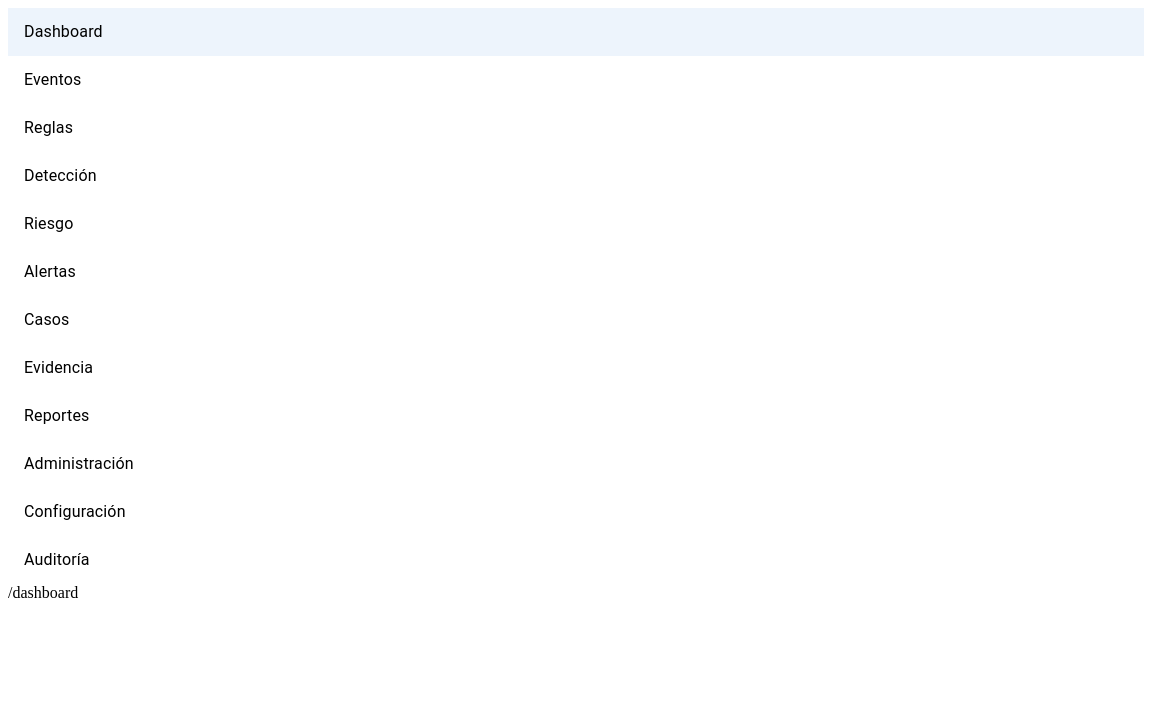
Test: AppNavigation › navigates using the route contract
This screenshot has width=1152, height=720.
Expected: the text with test id "current-location" reads "/dashboard", [8, 584, 78, 601]
Click the button "Alertas": (50, 272) [24, 262, 76, 281]
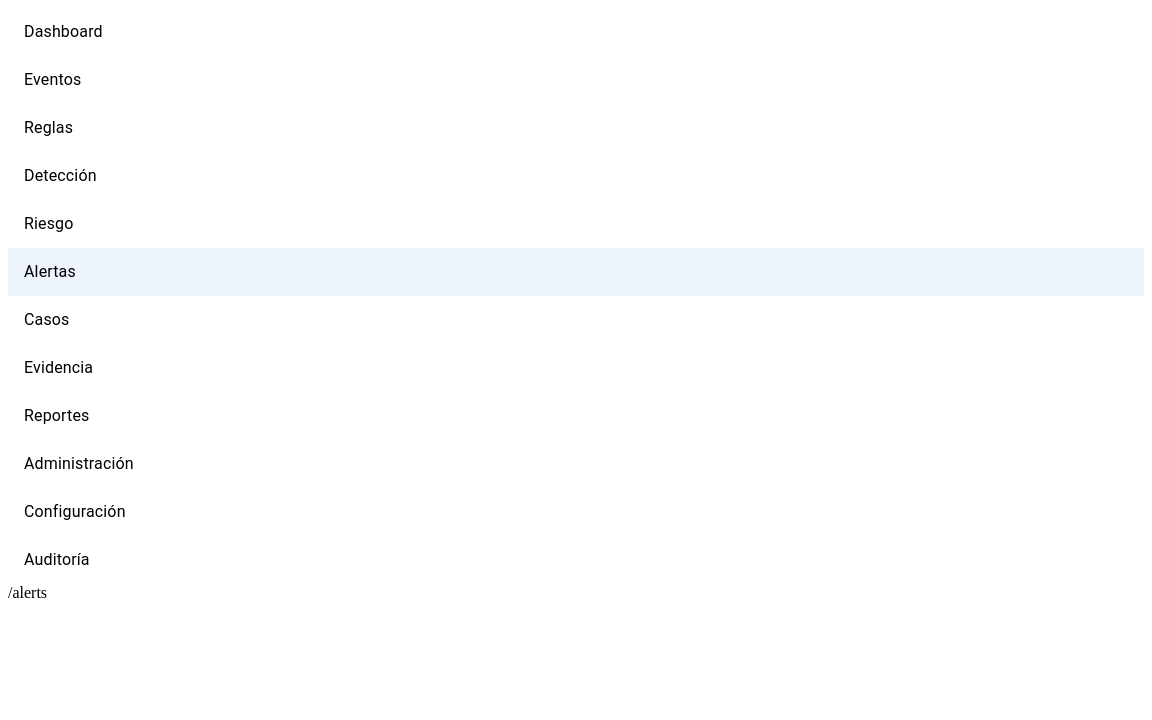
Now the text with test id "current-location" reads "/alerts", box [8, 584, 47, 601]
